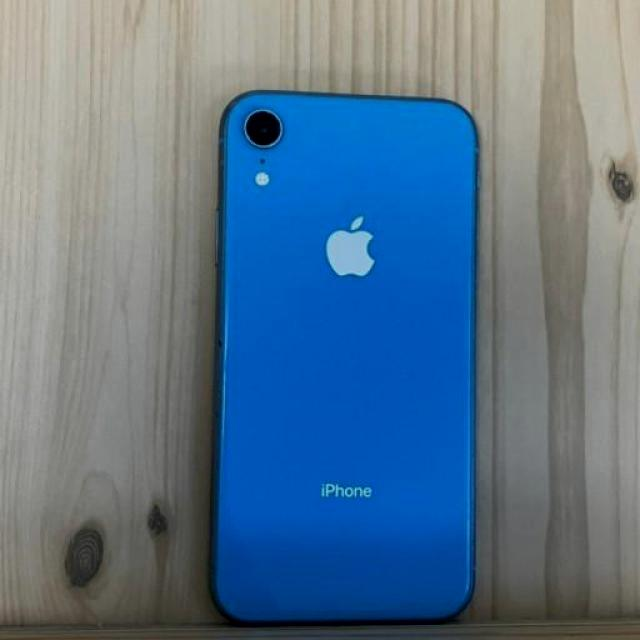lens: (242, 105, 286, 150)
phone: (216, 84, 484, 627)
